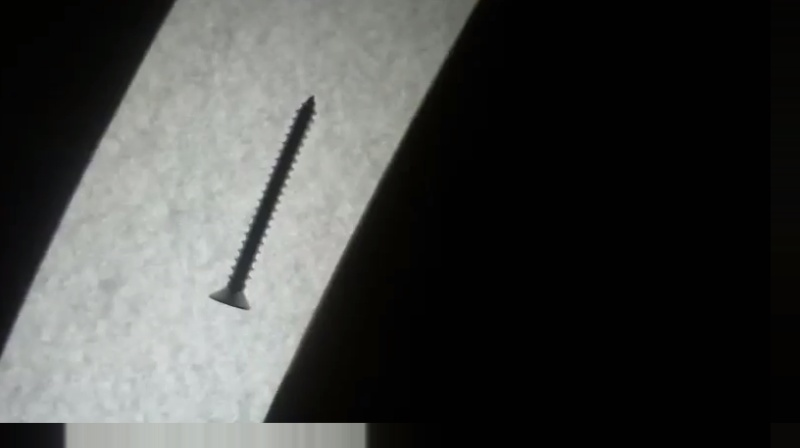S002: (204, 93, 319, 316)
